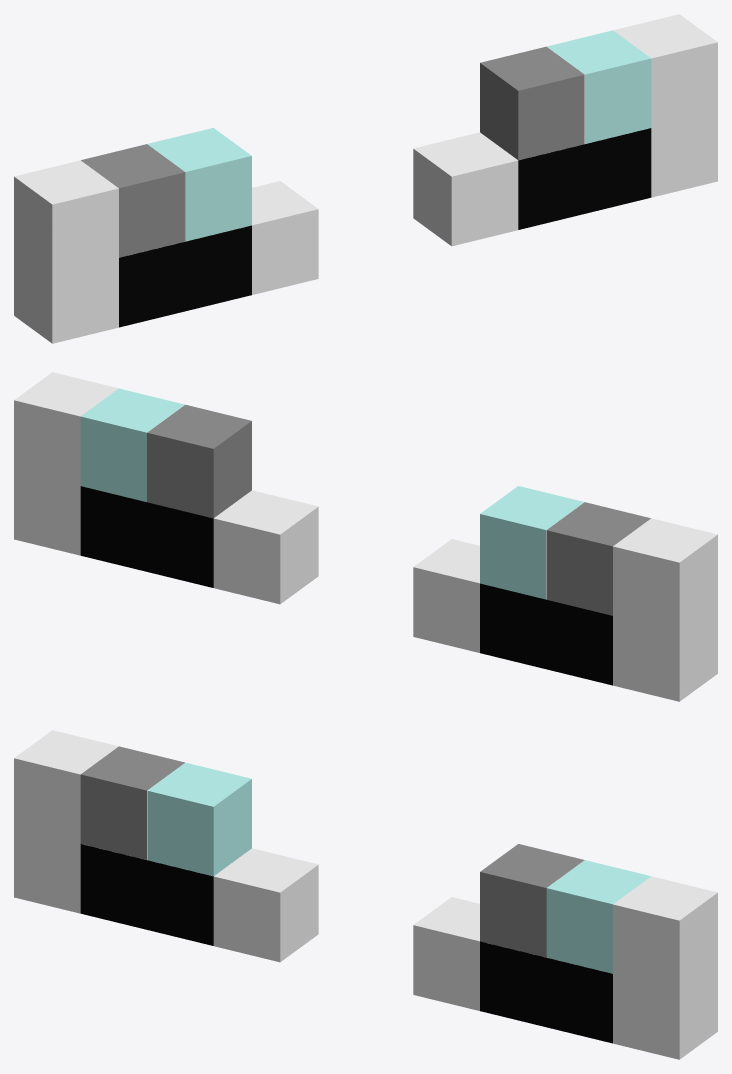
The model's file is 2912_eyes_rage.glb.
The picture shows the model from 3 angles, top to bottom: view 1: azimuth 30°, elevation 25°; view 2: azimuth 150°, elevation 25°; view 3: azimuth 330°, elevation 25°; orthographic projection.
Size of the model in its own units: 10 by 2 by 1.
